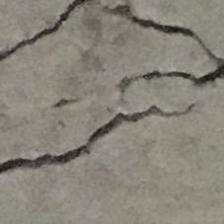Crack: (0, 0, 224, 174)
